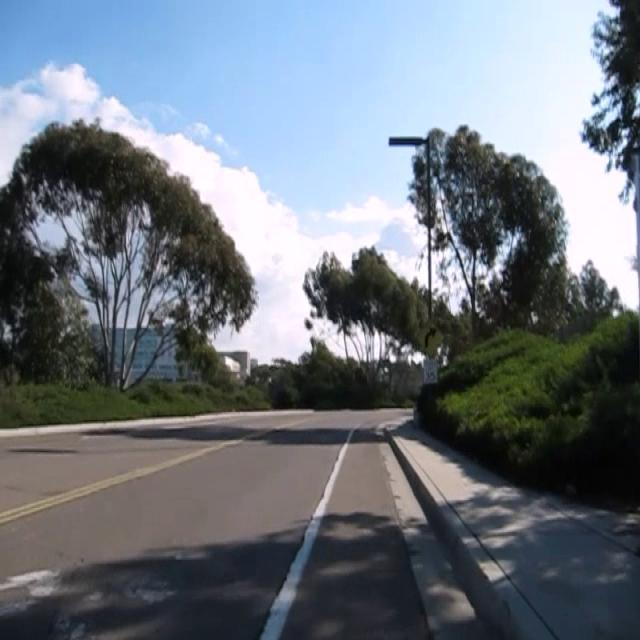speedLimit35: (423, 357, 438, 384)
